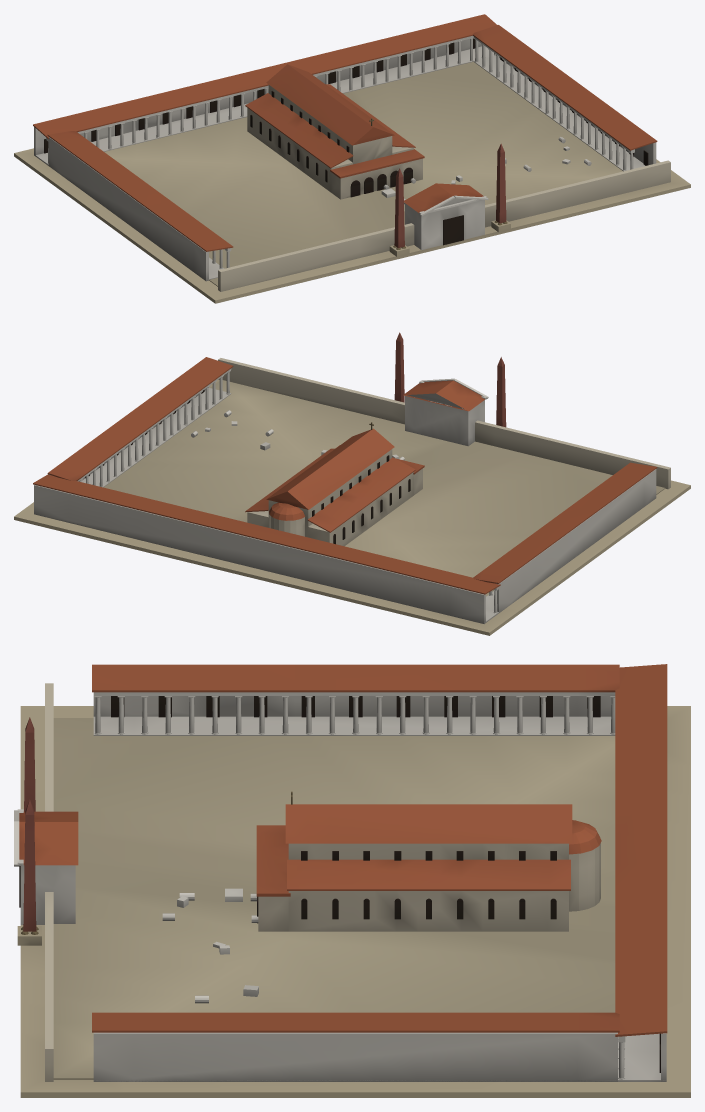
The model's file is caesareum-church.glb.
3 views of the same model, one above another, from view 1: azimuth 30°, elevation 25°; view 2: azimuth 150°, elevation 25°; view 3: azimuth 270°, elevation 25° (orthographic). The views are drawn at different scales.
Parts seen in each view (by area): view 1: p0_precinct, p1_porticoes, p2_church; view 2: p1_porticoes, p0_precinct, p2_church; view 3: p0_precinct, p1_porticoes, p2_church, p3_spoils.
Part boxes in pixels (bbox=[...]): p0_precinct: bbox=[14, 62, 690, 303]; p1_porticoes: bbox=[33, 14, 670, 291]; p2_church: bbox=[245, 64, 510, 256]; p1_porticoes: bbox=[33, 357, 670, 623]; p0_precinct: bbox=[14, 379, 690, 635]; p2_church: bbox=[245, 332, 506, 546]; p0_precinct: bbox=[20, 706, 690, 1097]; p1_porticoes: bbox=[14, 664, 667, 1081]; p2_church: bbox=[17, 717, 601, 945]; p3_spoils: bbox=[162, 893, 258, 1003].
Bounding box in the file's own units: 150 × 26.58 × 111.
